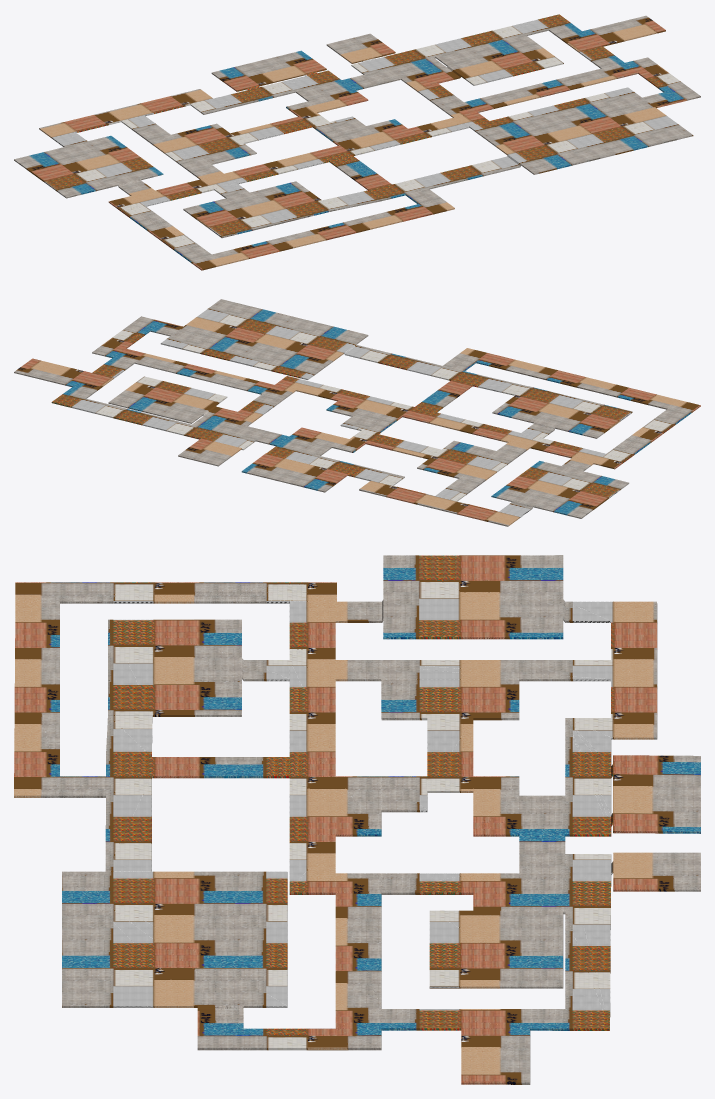
File: floor2UP.1.fbx
3 renders of one model, top to bottom at view 1: azimuth 30°, elevation 25°; view 2: azimuth 150°, elevation 25°; view 3: azimuth 270°, elevation 25°, orthographic. The views are drawn at different scales.
Parts seen in each view (by area): view 1: floor2; view 2: floor2; view 3: floor2.
Boxes of the visible parts, x1,y1,x2,y2 form: floor2: (14, 14, 700, 270); floor2: (14, 299, 700, 526); floor2: (14, 555, 700, 1084).
Bounding box in the file's own units: 5414 × 22.42 × 2991.
